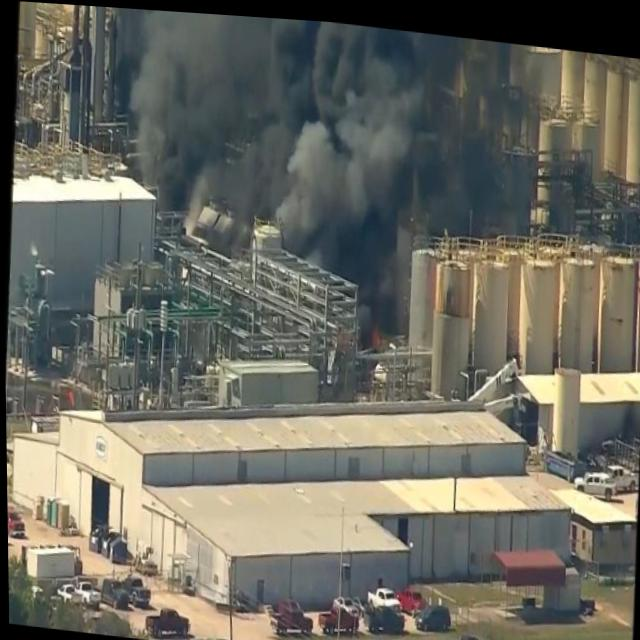fire: (367, 316, 388, 345)
